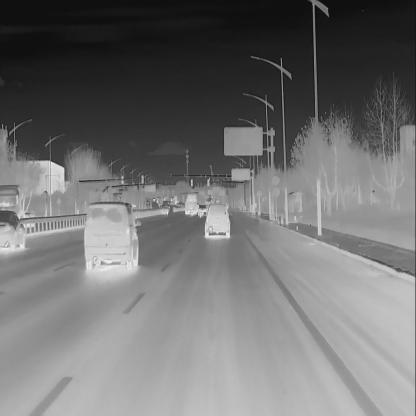car: (82, 199, 140, 271), (0, 210, 27, 252), (204, 202, 231, 238), (197, 203, 207, 216), (161, 204, 170, 215), (152, 196, 155, 201)
truck: (0, 183, 38, 231), (184, 192, 199, 215), (205, 196, 214, 208), (170, 194, 178, 206)
